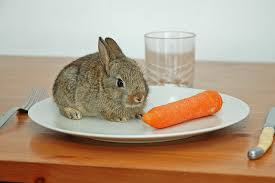carrot: (138, 87, 242, 131)
